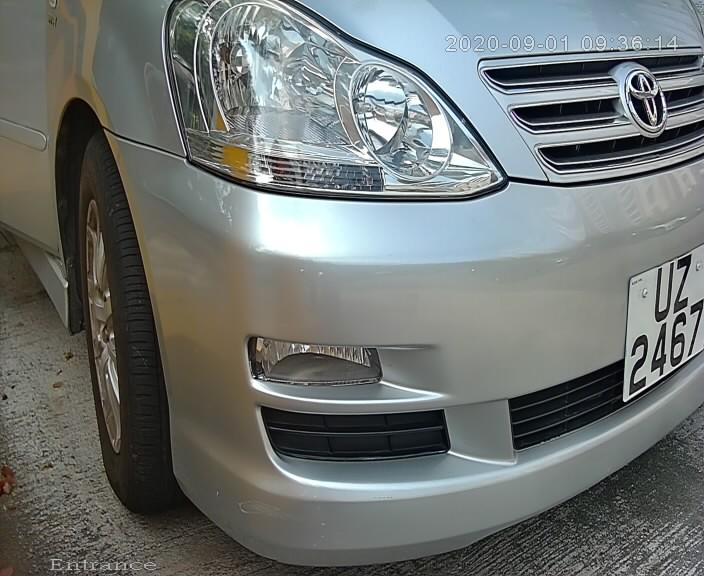License Plate: (617, 235, 704, 407)
